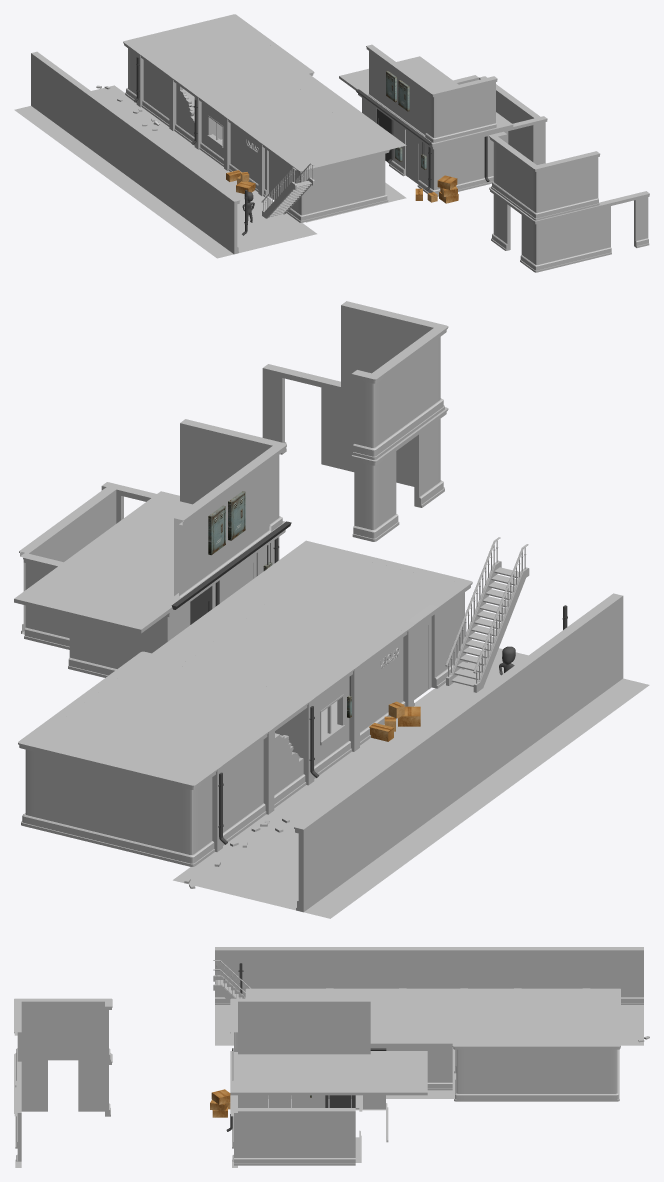
Rendered from alleyscene.fbx.
3 views of the same model, one above another, from view 1: azimuth 30°, elevation 25°; view 2: azimuth 150°, elevation 25°; view 3: azimuth 270°, elevation 25° (orthographic). The views are drawn at different scales.
Parts seen in each view (by area): view 1: polySurface41 (×7), polySurface23, polySurface18, polySurface9, polySurface7, polySurface67, polySurface17, brick_a_corner6, polySurface24, brick_a_corner, polySurface40, pPlane22 (+53 smaller); view 2: polySurface41 (×7), pCube25, polySurface58, brick_a_corner1, pCube145, pCube5_f_4_2, polySurface9, polySurface23, brick_a_corner4, polySurface24, pCube11, polySurface17 (+50 smaller); view 3: pCube25, pCube11, polySurface63, polySurface24, polySurface27, polySurface28, polySurface11, polySurface10, polySurface71, polySurface68, polySurface69, polySurface70 (+31 smaller).
Boxes of the visible parts, x1=… form: polySurface41 (×7): x1=31, y1=53, x2=234, y2=253; polySurface23: x1=547, y1=151, x2=600, y2=217; polySurface18: x1=548, y1=205, x2=600, y2=269; polySurface9: x1=445, y1=76, x2=497, y2=139; polySurface7: x1=446, y1=131, x2=497, y2=191; polySurface67: x1=306, y1=154, x2=359, y2=219; polySurface17: x1=598, y1=191, x2=649, y2=256; brick_a_corner6: x1=356, y1=136, x2=390, y2=208; polySurface24: x1=497, y1=140, x2=531, y2=214; brick_a_corner: x1=285, y1=159, x2=324, y2=222; polySurface40: x1=227, y1=117, x2=262, y2=191; pPlane22: x1=161, y1=51, x2=239, y2=84; polySurface41 (×7): x1=303, y1=596, x2=623, y2=911; pCube25: x1=14, y1=545, x2=212, y2=633; polySurface58: x1=66, y1=751, x2=150, y2=855; brick_a_corner1: x1=145, y1=763, x2=221, y2=866; pCube145: x1=445, y1=537, x2=529, y2=692; pCube5_f_4_2: x1=68, y1=572, x2=227, y2=677; polySurface9: x1=180, y1=419, x2=263, y2=504; polySurface23: x1=341, y1=301, x2=424, y2=390; brick_a_corner4: x1=18, y1=722, x2=71, y2=836; polySurface24: x1=380, y1=334, x2=435, y2=450; pCube11: x1=88, y1=491, x2=285, y2=575; polySurface17: x1=262, y1=364, x2=340, y2=468; pCube25: x1=329, y1=1051, x2=427, y2=1095; pCube11: x1=230, y1=1051, x2=328, y2=1095; polySurface63: x1=521, y1=1043, x2=582, y2=1101; polySurface24: x1=33, y1=998, x2=93, y2=1056; polySurface27: x1=295, y1=1108, x2=355, y2=1165; polySurface28: x1=234, y1=1108, x2=294, y2=1165; polySurface11: x1=310, y1=998, x2=370, y2=1054; polySurface10: x1=249, y1=998, x2=309, y2=1054; polySurface71: x1=582, y1=947, x2=643, y2=1004; polySurface68: x1=399, y1=947, x2=460, y2=988; polySurface69: x1=460, y1=947, x2=521, y2=988; polySurface70: x1=521, y1=947, x2=582, y2=988.
Bounding box in the file's own units: 53.76 × 15.98 × 82.98.
